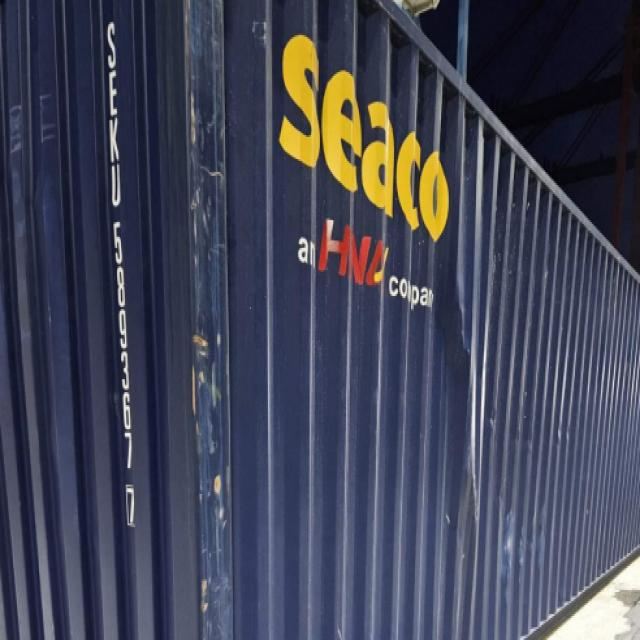dent: (413, 231, 519, 552)
